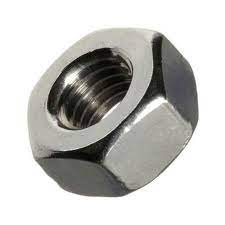Thread: (15, 32, 193, 185)
